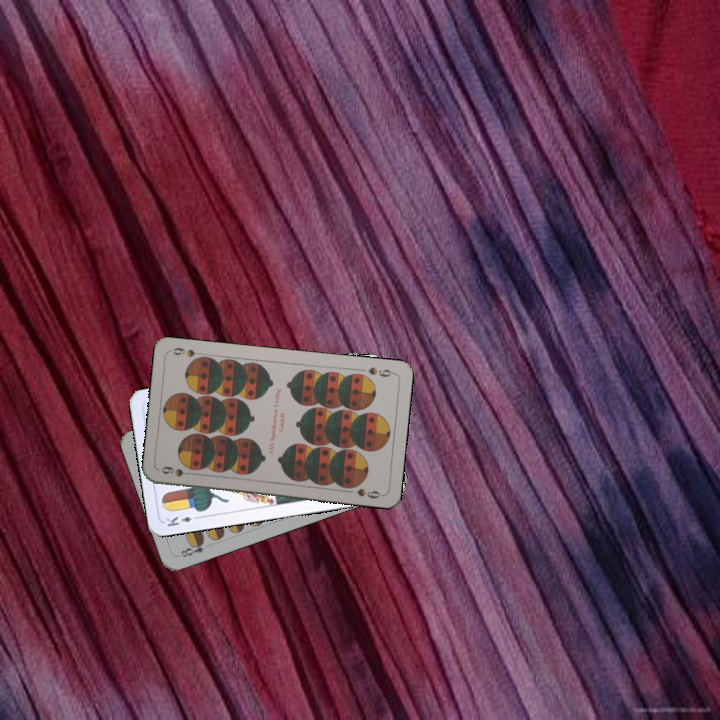E8: (176, 536, 207, 560)
EK: (162, 512, 203, 529)
S9: (157, 462, 197, 479), (364, 363, 397, 379)
